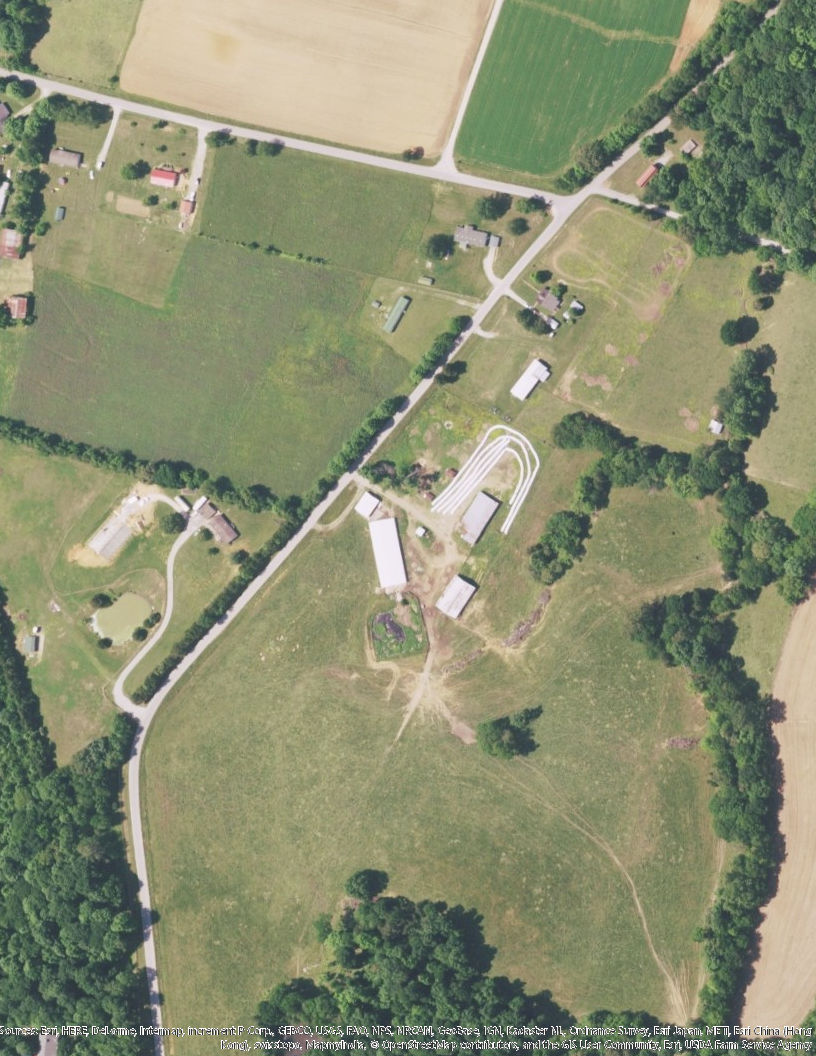cafo: (366, 511, 411, 593), (455, 488, 504, 544), (506, 355, 556, 403), (432, 574, 480, 621)
